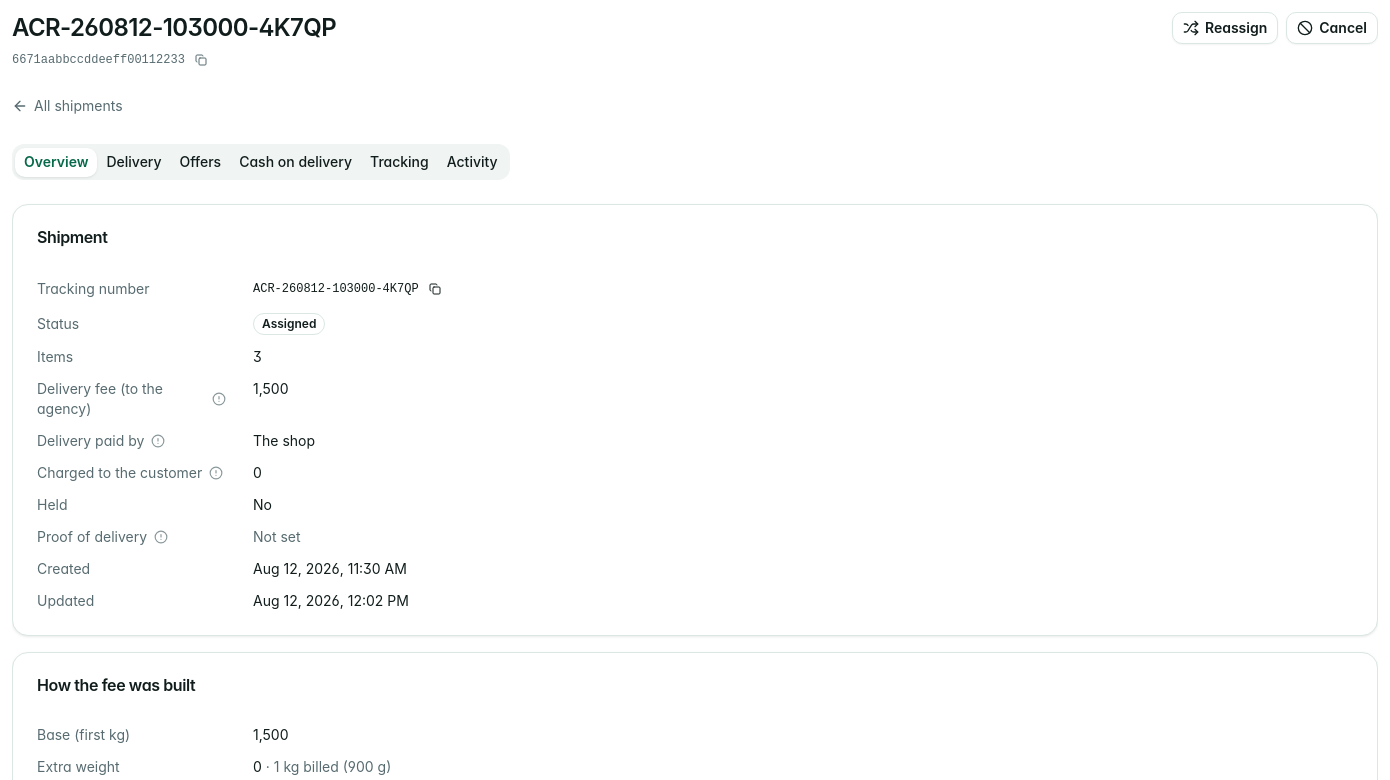
Test: the offer trail › says the trail is capped when it holds fifty rows
Click the tab "Offers" at [200, 162], box [171,148,230,176]
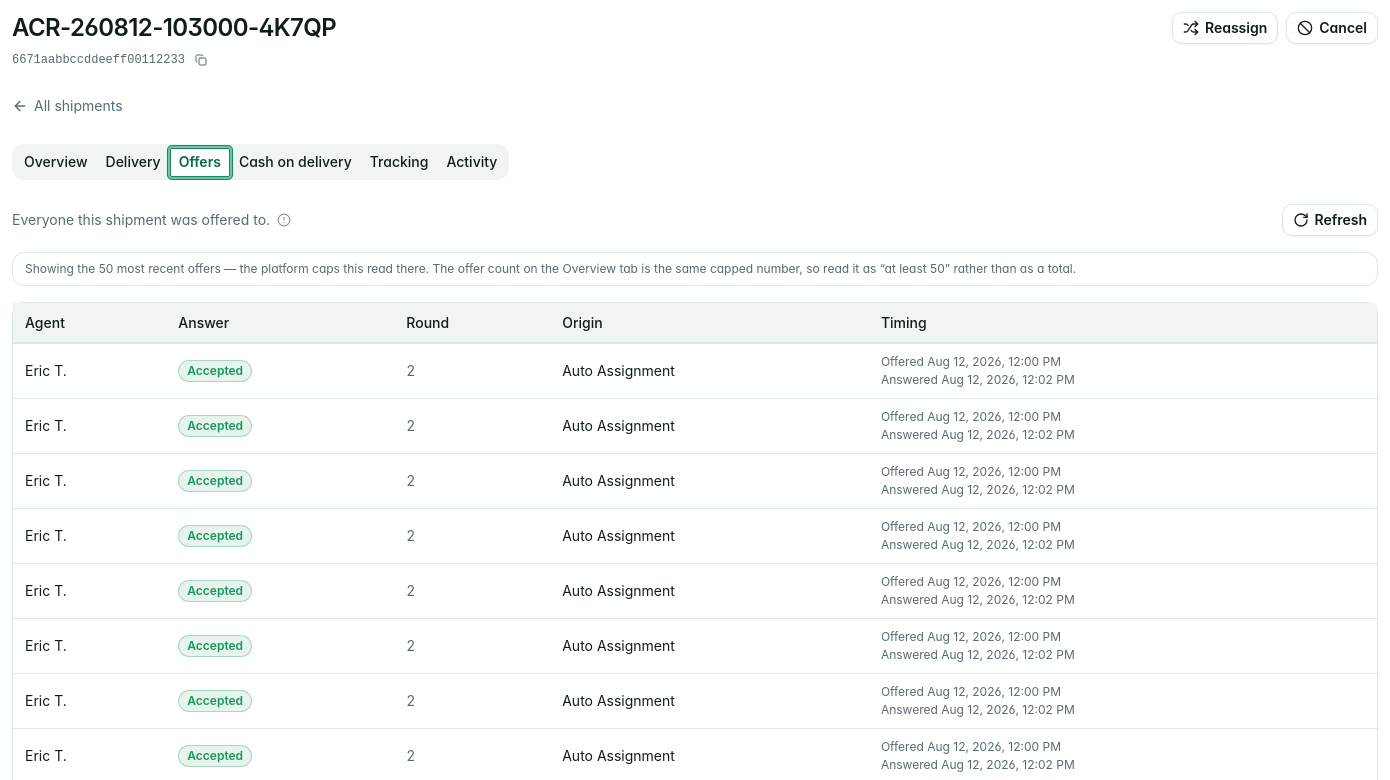
expect the text "50 most recent offers" is shown: met, box [12,252,1378,286]
